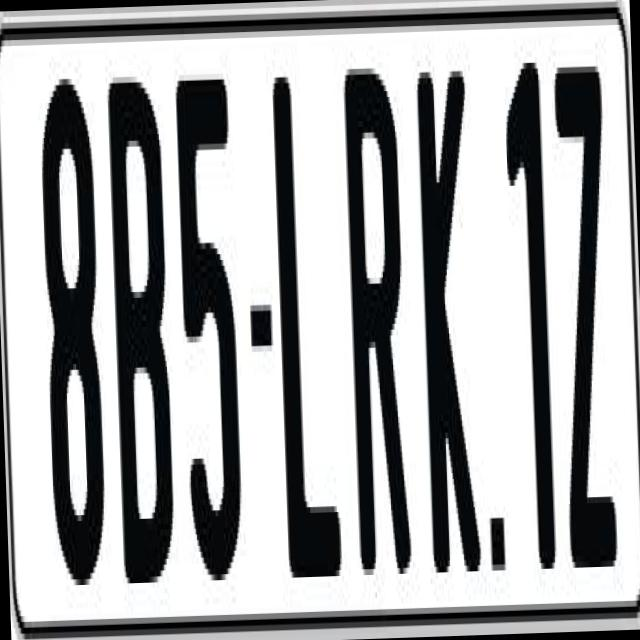1: (499, 62, 553, 592)
5: (174, 62, 250, 570)
8: (38, 78, 112, 614)
B: (104, 81, 181, 588)
K: (412, 53, 482, 561)
L: (268, 63, 338, 566)
R: (342, 61, 416, 592)
Z: (549, 66, 620, 603)
